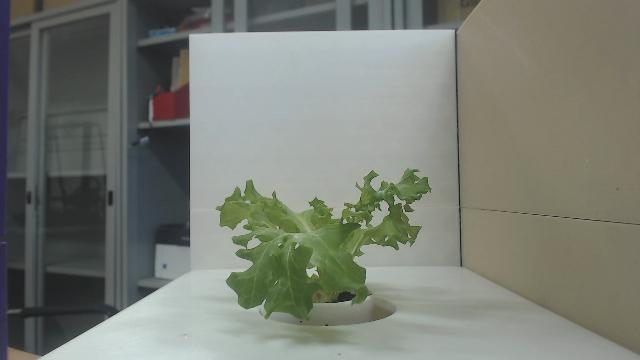Vegetative Stage: (215, 167, 433, 323)
